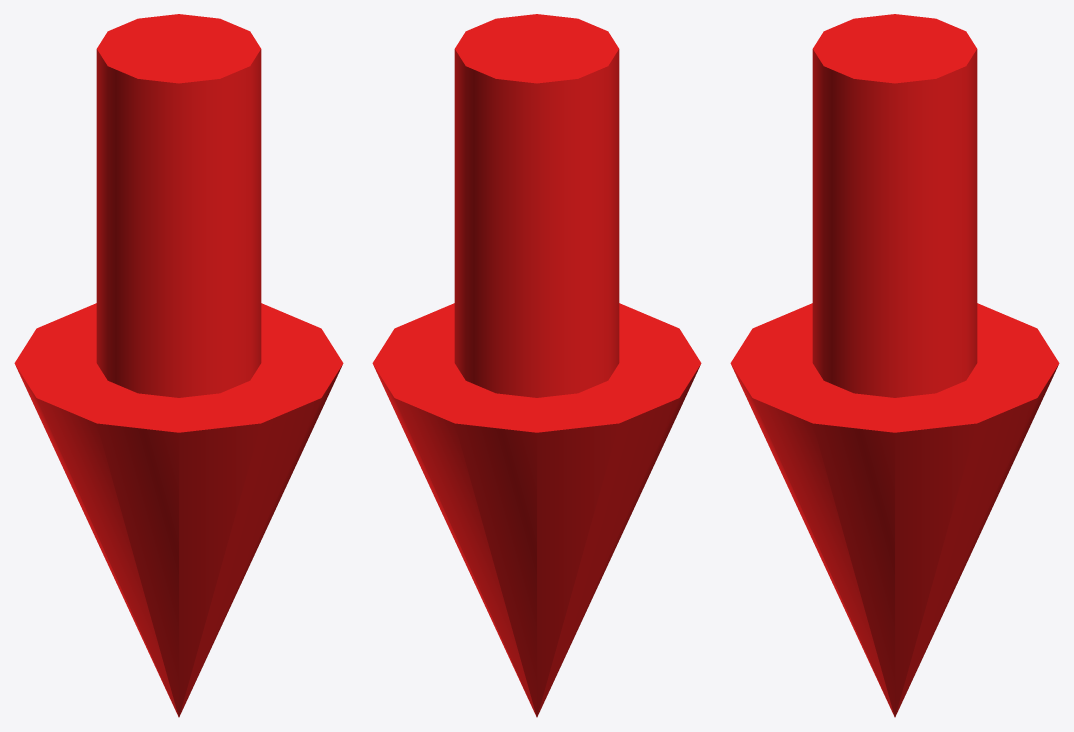
The model's file is Arrow.FBX.
3 renders of one model, left to right at view 1: azimuth 30°, elevation 25°; view 2: azimuth 150°, elevation 25°; view 3: azimuth 270°, elevation 25°, orthographic.
Visible parts, largest first — view 1: Cone001; view 2: Cone001; view 3: Cone001.
Part boxes in pixels (box(x1,y1,x2,y2)): Cone001: box(14, 14, 343, 717); Cone001: box(372, 14, 701, 717); Cone001: box(730, 14, 1059, 717).
Bounding box in the file's own units: 6.76 × 15.16 × 6.76.
